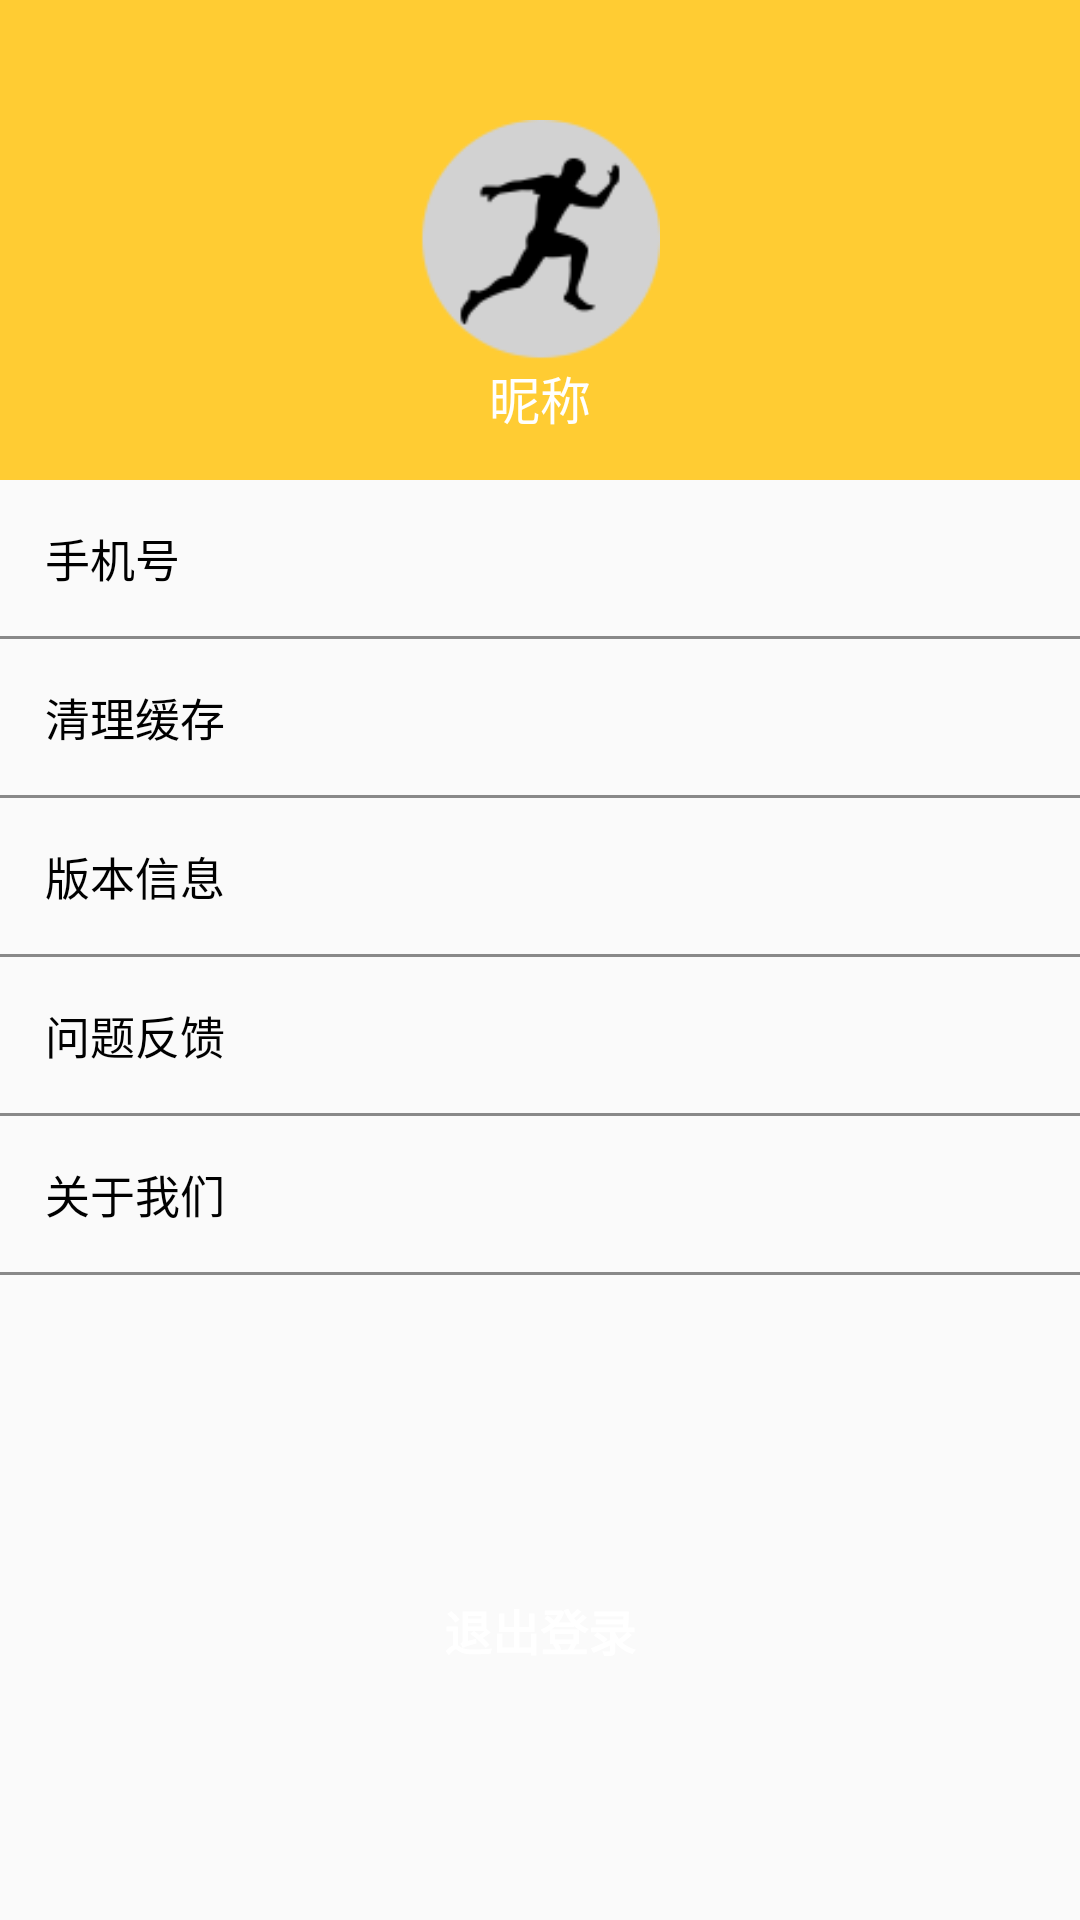

Where to tap for icons on this 1080px x 1920px app screen, as point (x, y):
defaut circle: point (541, 239)
